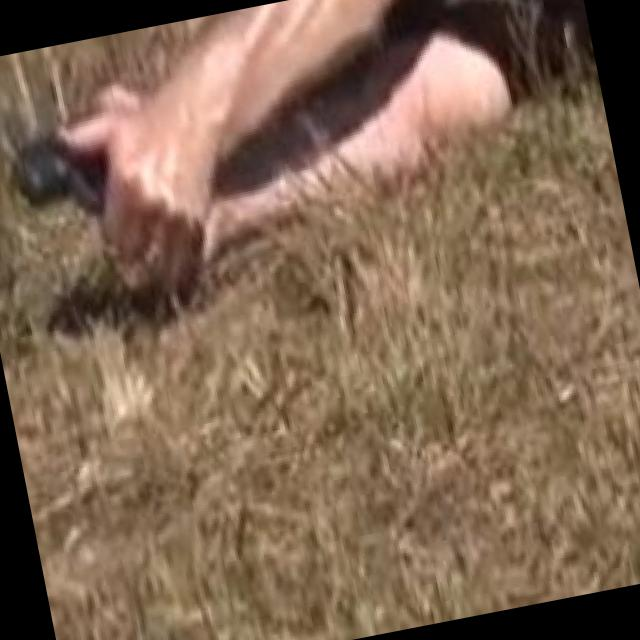Guns: (0, 61, 238, 324)
